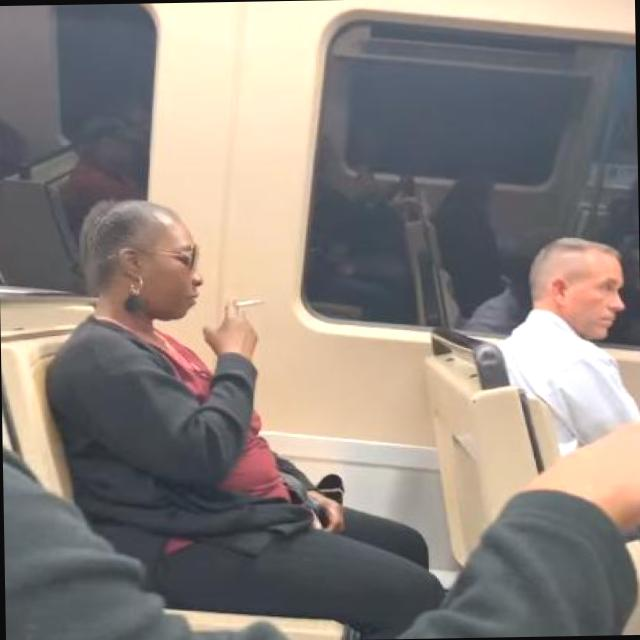smoke: (212, 284, 274, 333)
